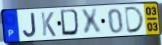0: (107, 8, 126, 35)
D: (59, 8, 82, 38), (124, 6, 146, 35)
J: (22, 12, 38, 39)
K: (40, 11, 57, 38)
X: (79, 8, 103, 37)
